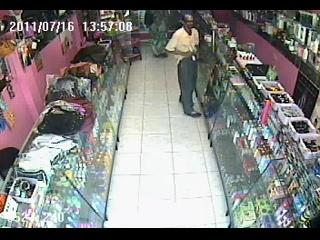Normal: (165, 14, 202, 118)
